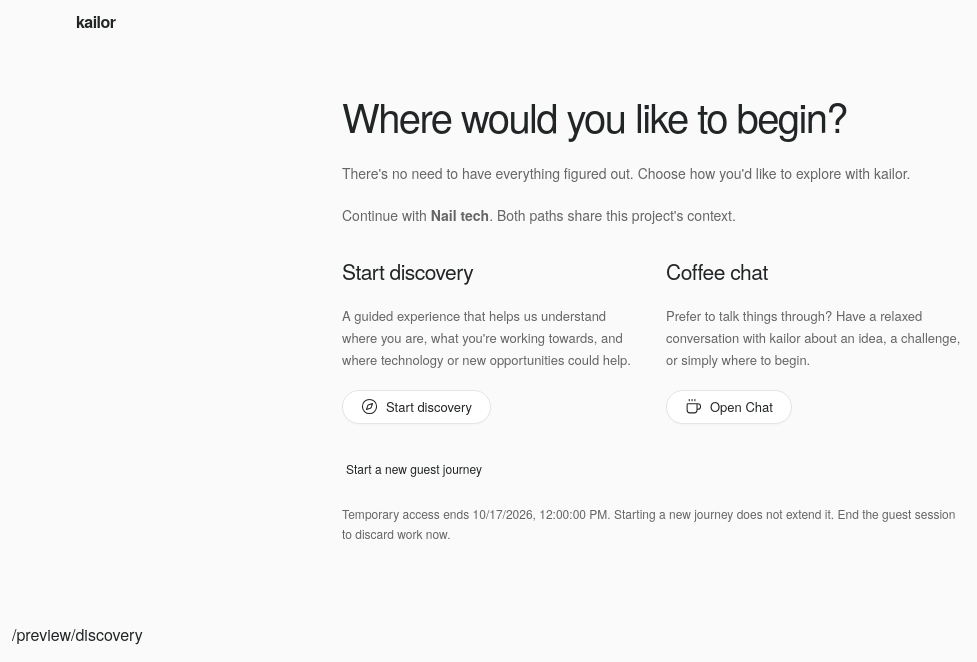
Test: opens Coffee chat within the current project without creating another project
This screenshot has width=977, height=662.
Click the button "Open Chat".
click(729, 407)  # box [666,390,792,424]
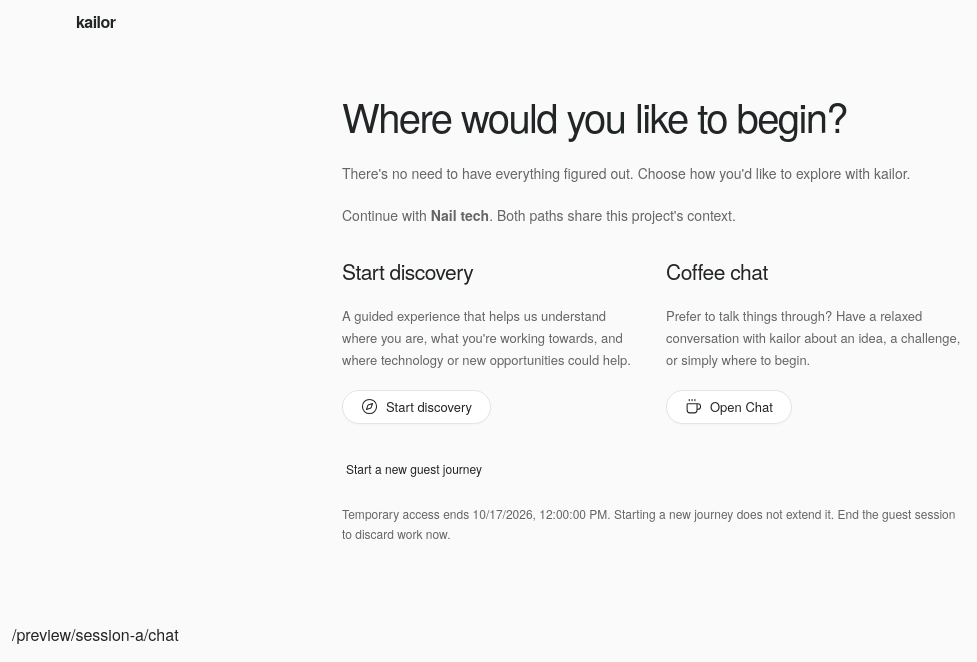
Now the text named "Location" reads "/preview/session-a/chat", box [12,622,179,646]
